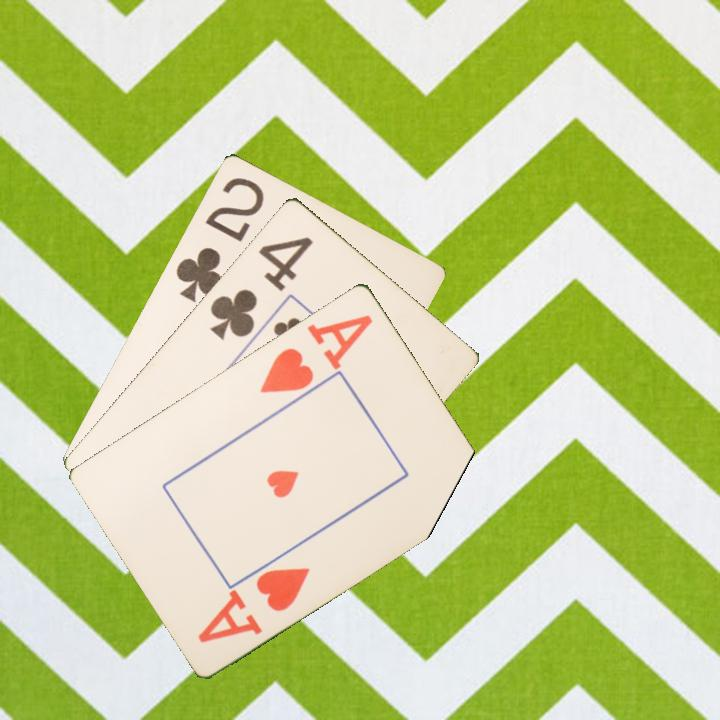2c: (172, 172, 267, 305)
4c: (206, 232, 316, 343)
Ah: (256, 310, 376, 396), (194, 563, 313, 646)
